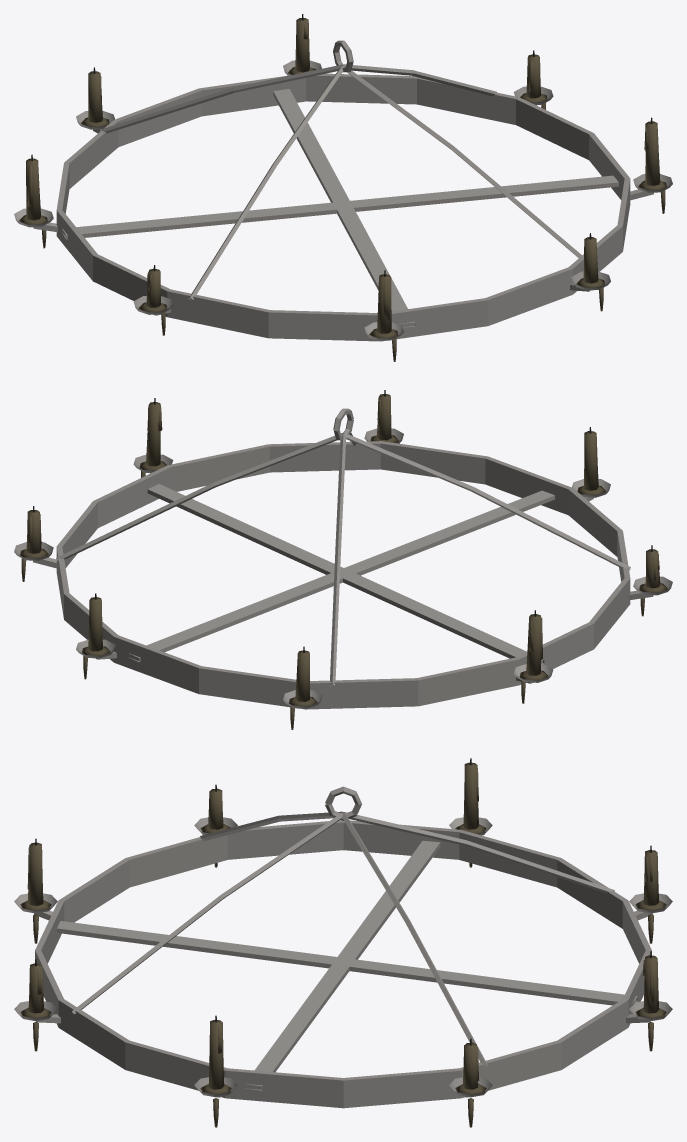
File: prop_inn_candle_ring.glb
3 renders of one model, top to bottom at view 1: azimuth 30°, elevation 25°; view 2: azimuth 150°, elevation 25°; view 3: azimuth 270°, elevation 25°, orthographic. The views are drawn at different scales.
Parts seen in each view (by area): view 1: InnCandleRing, InnCandleRingSoft; view 2: InnCandleRing, InnCandleRingSoft; view 3: InnCandleRing, InnCandleRingSoft.
Part boxes in pixels (x1=…): InnCandleRing: x1=33, y1=40, x2=653, y2=341; InnCandleRingSoft: x1=14, y1=14, x2=672, y2=361; InnCandleRing: x1=33, y1=408, x2=653, y2=709; InnCandleRingSoft: x1=14, y1=390, x2=672, y2=729; InnCandleRing: x1=33, y1=786, x2=653, y2=1108; InnCandleRingSoft: x1=14, y1=758, x2=672, y2=1127.
Bounding box in the file's own units: 1.08 × 0.3707 × 1.08.
